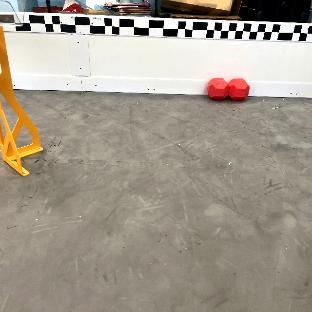Goal: (0, 25, 41, 175)
V5_RED: (207, 78, 250, 101)
